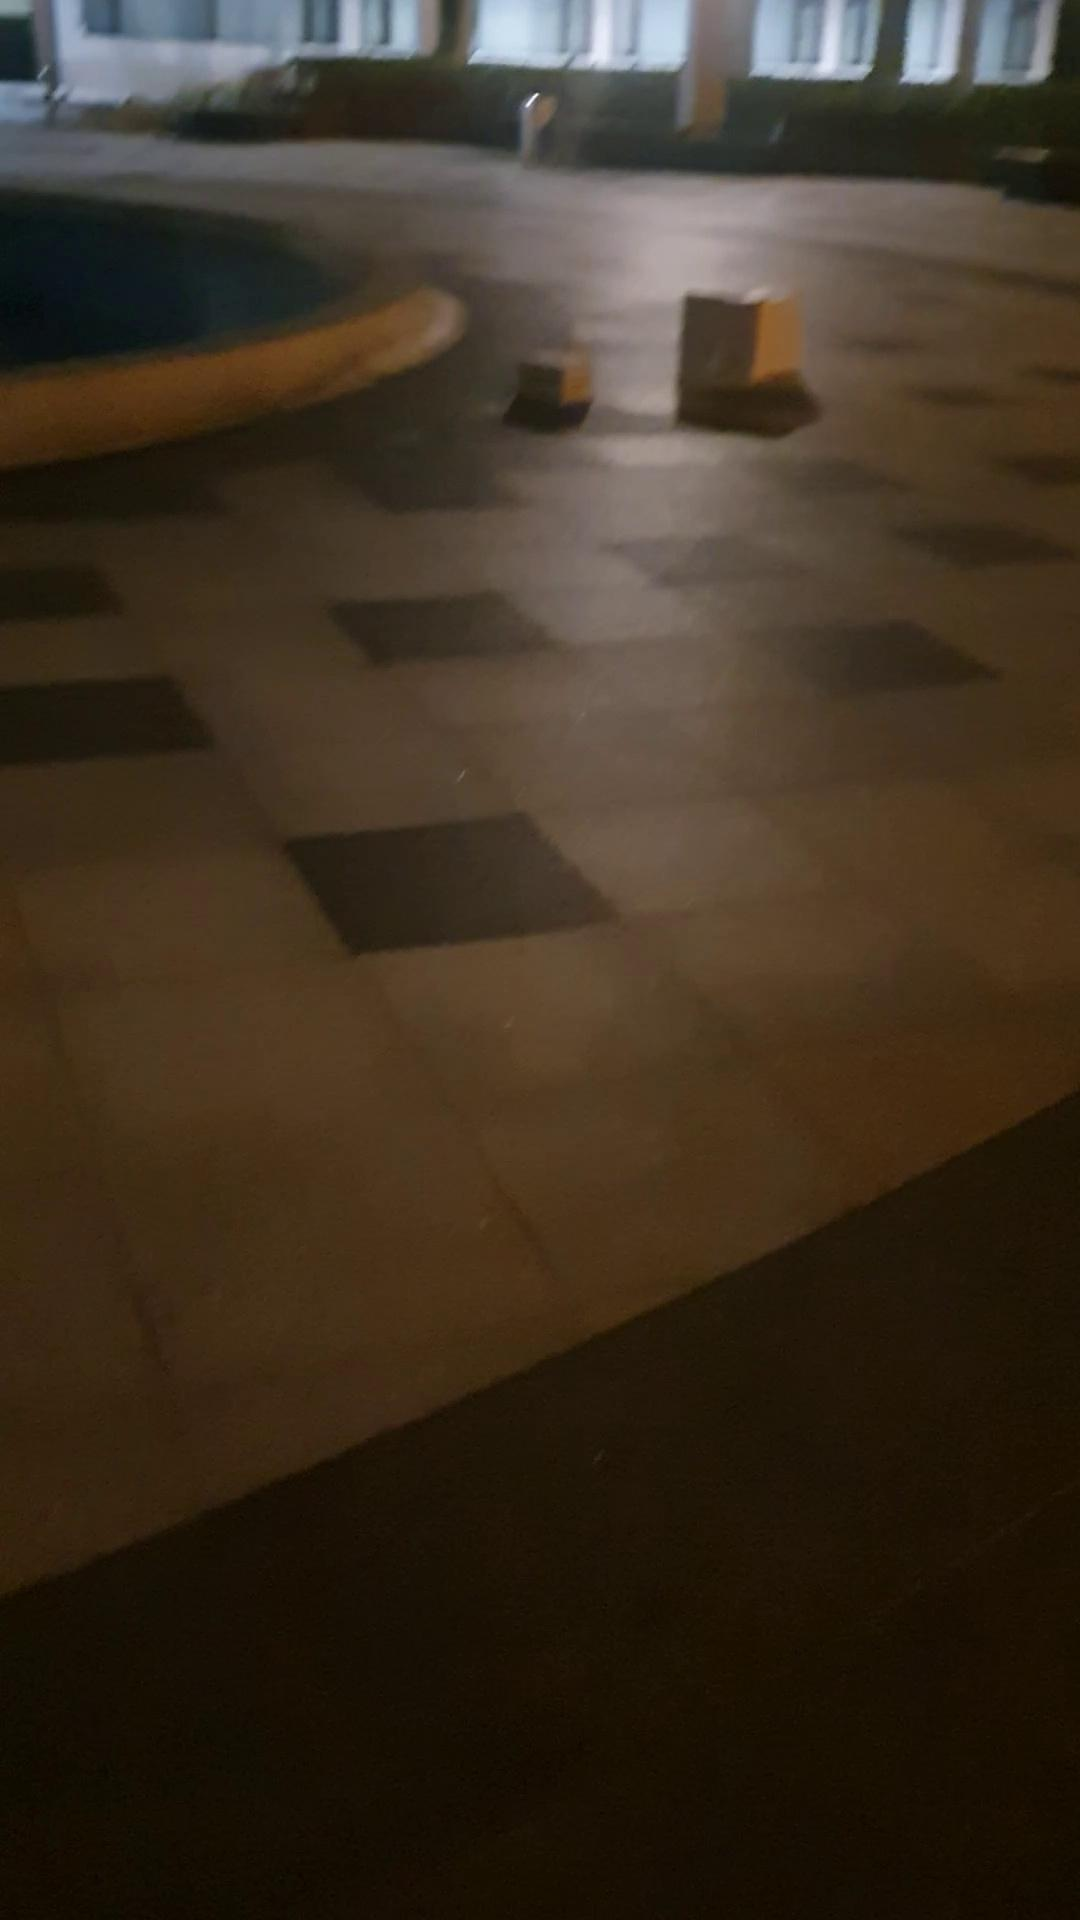Box: (661, 280, 804, 407), (518, 334, 595, 418)
